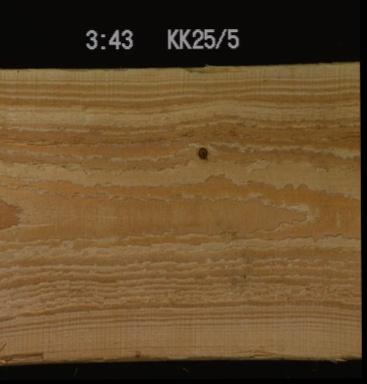dry_knot: (194, 145, 207, 159)
wave: (93, 351, 360, 362), (176, 65, 246, 72)
